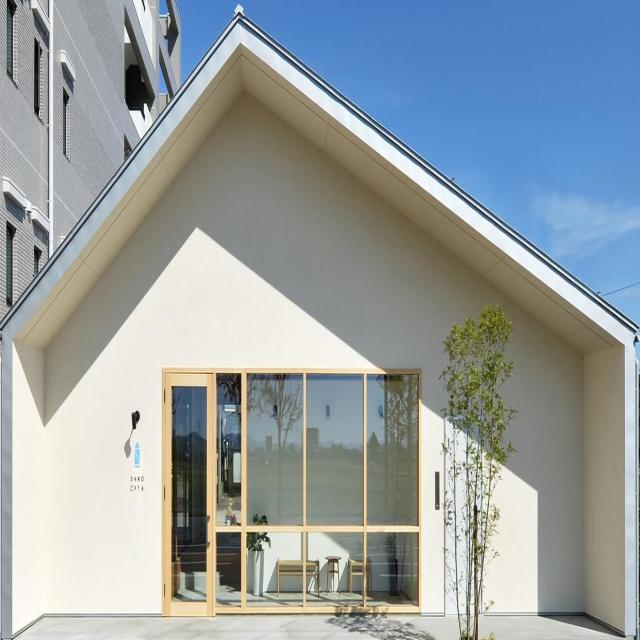door: (161, 367, 216, 614)
plant: (436, 306, 517, 639)
wall: (0, 4, 639, 639)
windows: (161, 366, 421, 614)
